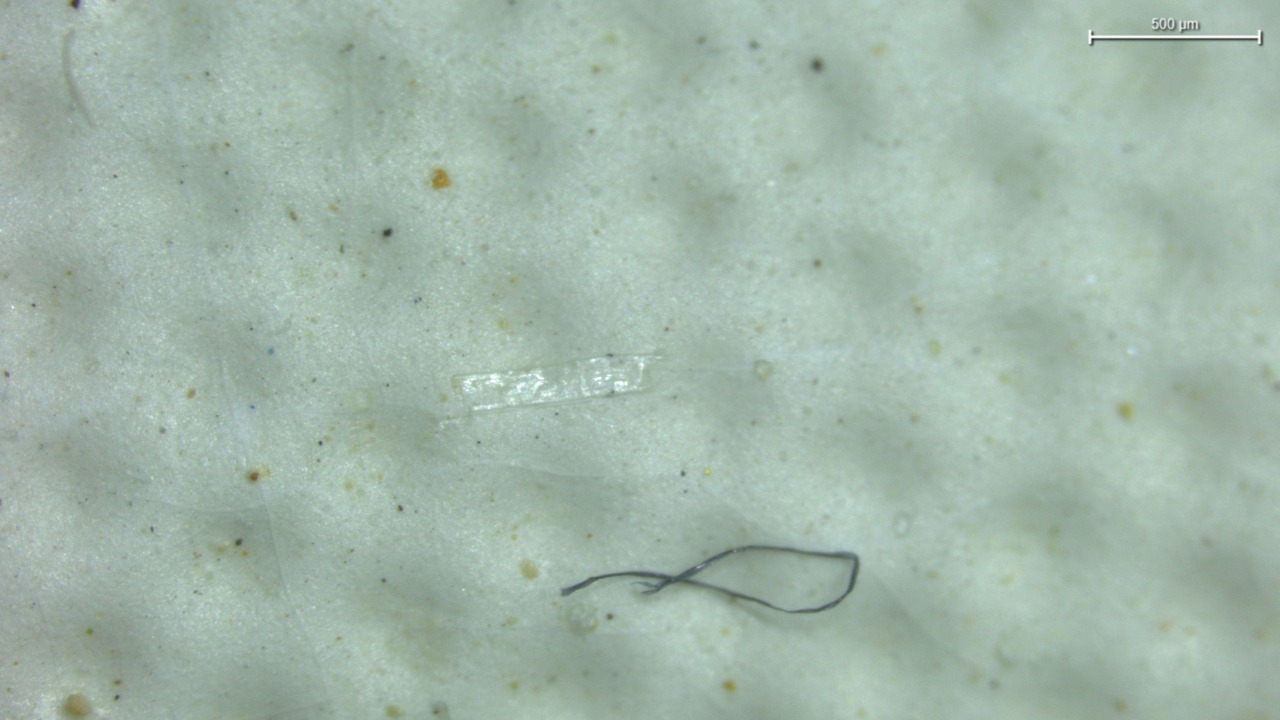microplastic_fragment: (455, 355, 660, 411)
